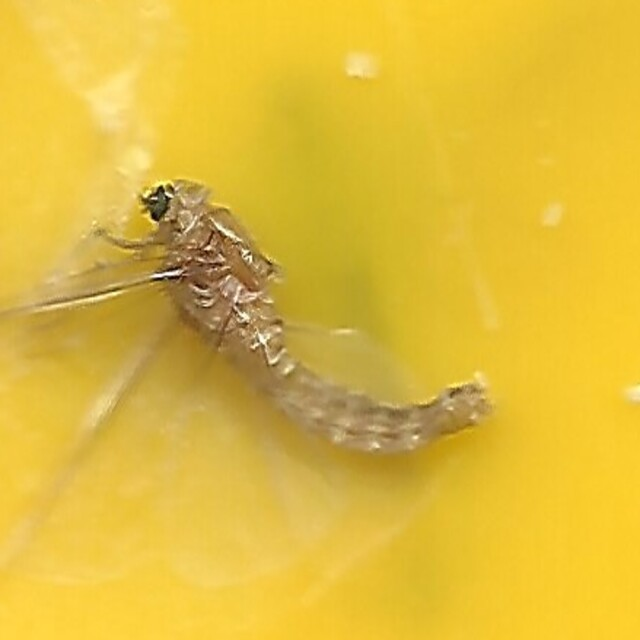Ephemeroptera: (146, 181, 494, 459)
